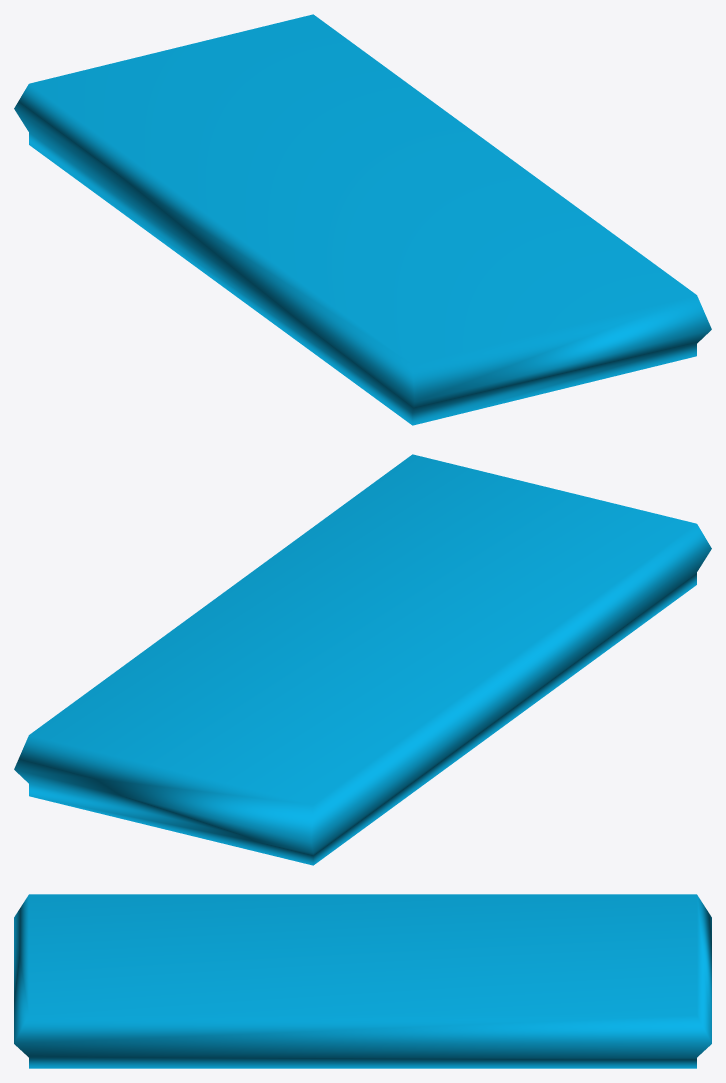
File: Bench_Shelf.fbx
The picture shows the model from 3 angles, top to bottom: view 1: azimuth 30°, elevation 25°; view 2: azimuth 150°, elevation 25°; view 3: azimuth 270°, elevation 25°; orthographic projection. The views are drawn at different scales.
Visible parts, largest first — view 1: Bench_Shelf; view 2: Bench_Shelf; view 3: Bench_Shelf.
Boxes of the visible parts, x1=… form: Bench_Shelf: x1=14, y1=14, x2=711, y2=425; Bench_Shelf: x1=14, y1=454, x2=711, y2=865; Bench_Shelf: x1=14, y1=894, x2=711, y2=1068.
Bounding box in the file's own units: 35.3 × 6.94 × 82.46.
